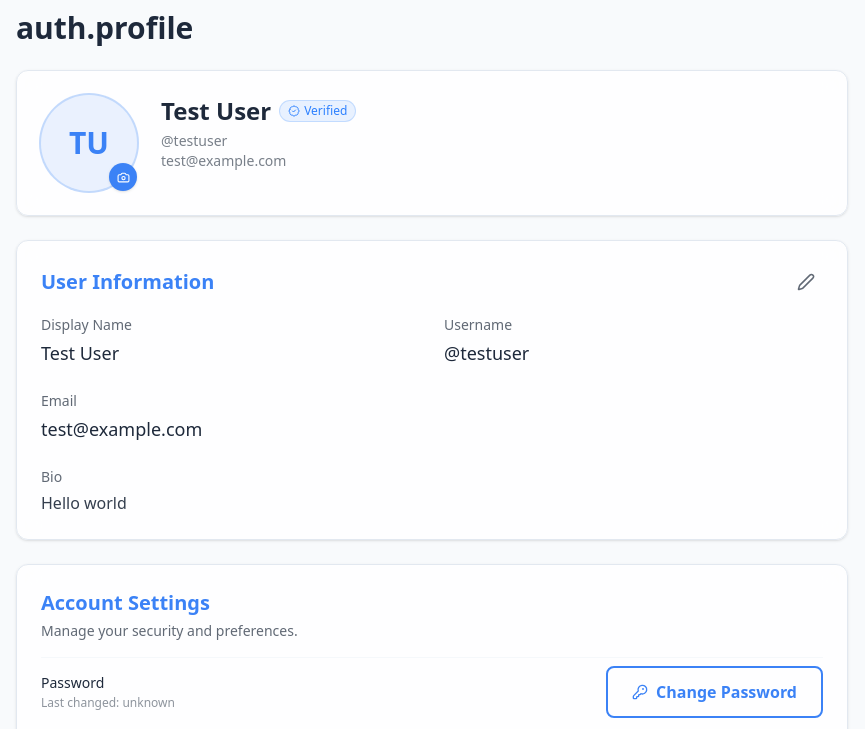
Test case: Profile (7.x) › 7.4 — saving profile changes shows success message
This screenshot has width=865, height=729.
Click the button titled "Edit Profile" at (806, 282), box [789,265,823,299]
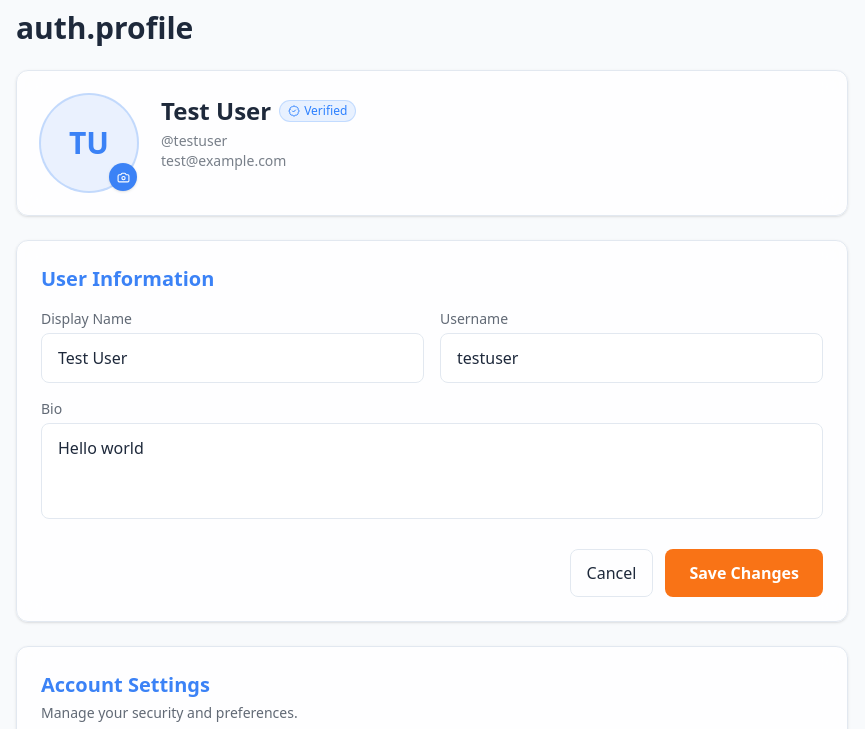
Replace the text in the field with placeholder "johndoe" below "Username" with "newusername" at (632, 358), box [440,333,823,383]
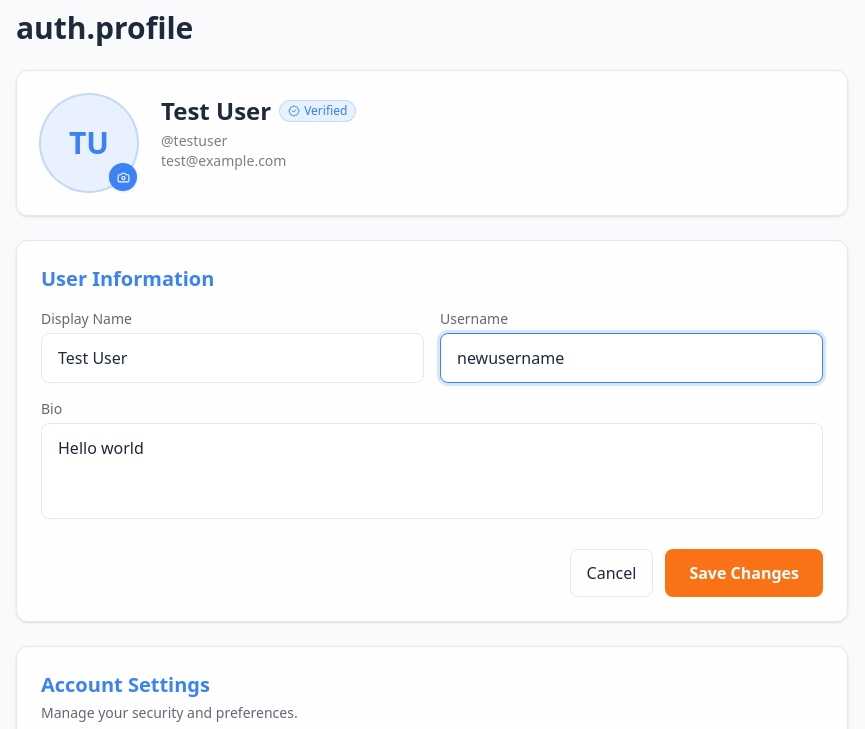
Click the button "Save Changes" at (744, 573), box [665,549,823,597]
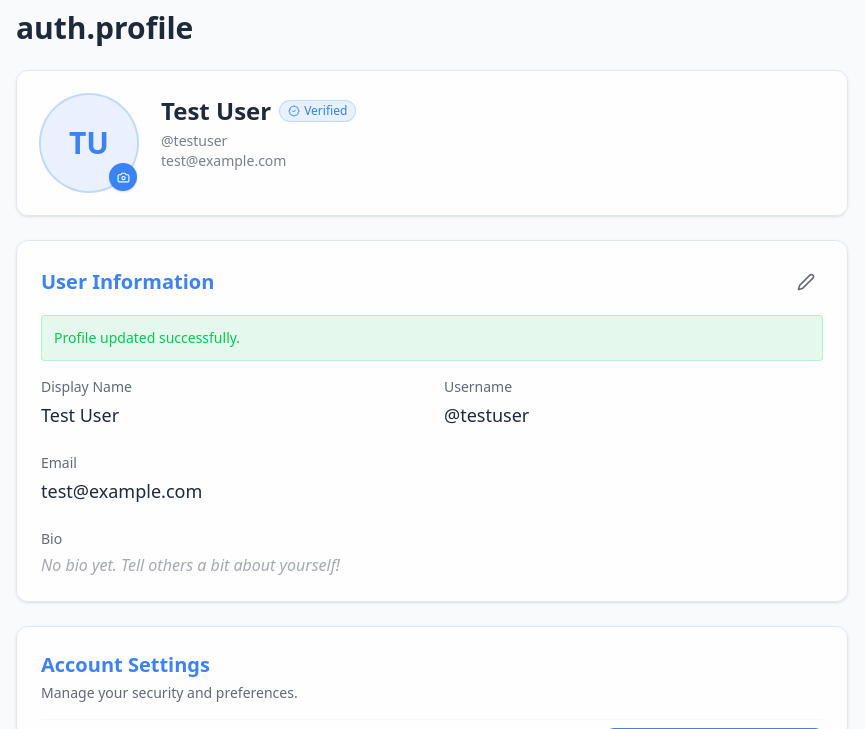
Expected: the text "Profile updated successfully." is shown, [41,315,823,361]
